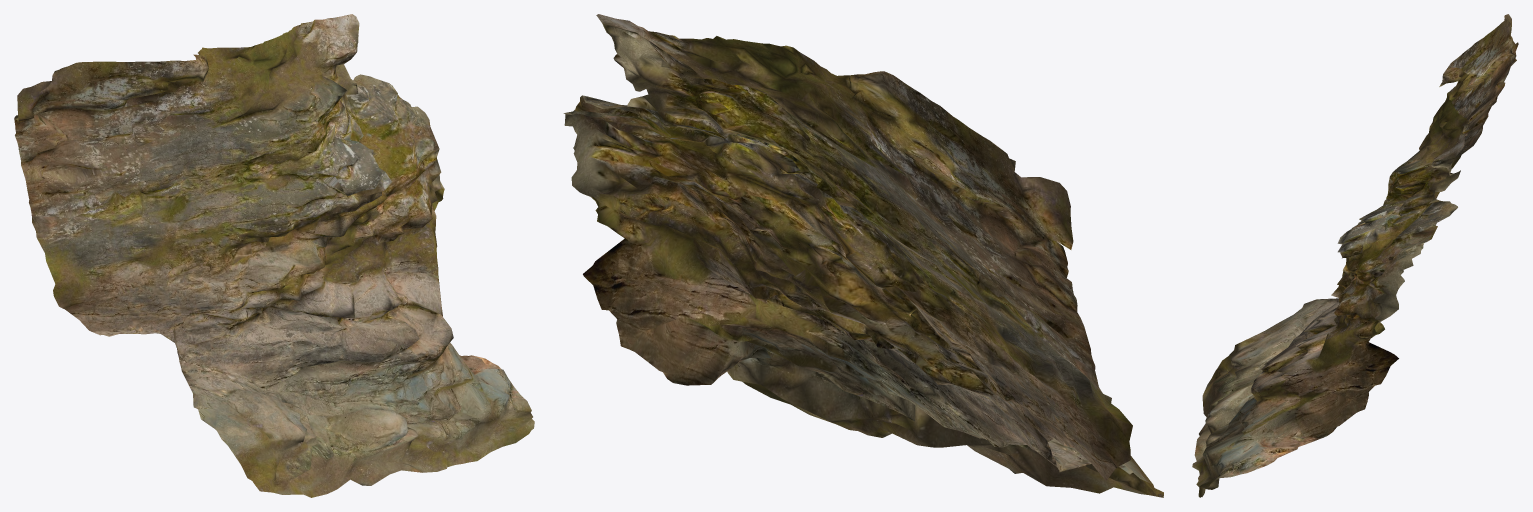
File: cliff_face_2.gltf
3 views of the same model, side by side, from view 1: azimuth 30°, elevation 25°; view 2: azimuth 150°, elevation 25°; view 3: azimuth 270°, elevation 25° (orthographic). The views are drawn at different scales.
Visible parts, largest first — view 1: cliff_face_2; view 2: cliff_face_2; view 3: cliff_face_2.
Boxes of the visible parts, bbox=[...] form: cliff_face_2: bbox=[14, 14, 534, 497]; cliff_face_2: bbox=[563, 14, 1163, 497]; cliff_face_2: bbox=[1192, 14, 1518, 497].
Size of the model in its own units: 6.58 by 6.01 by 5.17.
1 material, 1 textured.
